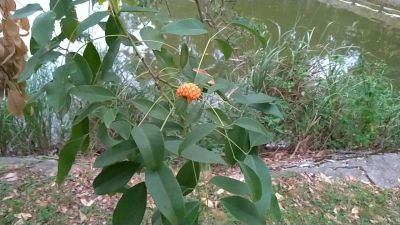eggs: (174, 78, 201, 104)
